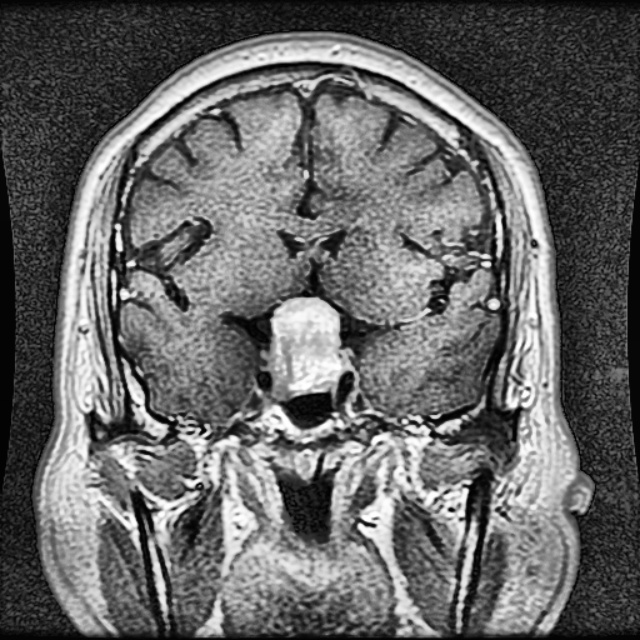Pituitary: (270, 295, 342, 393)
